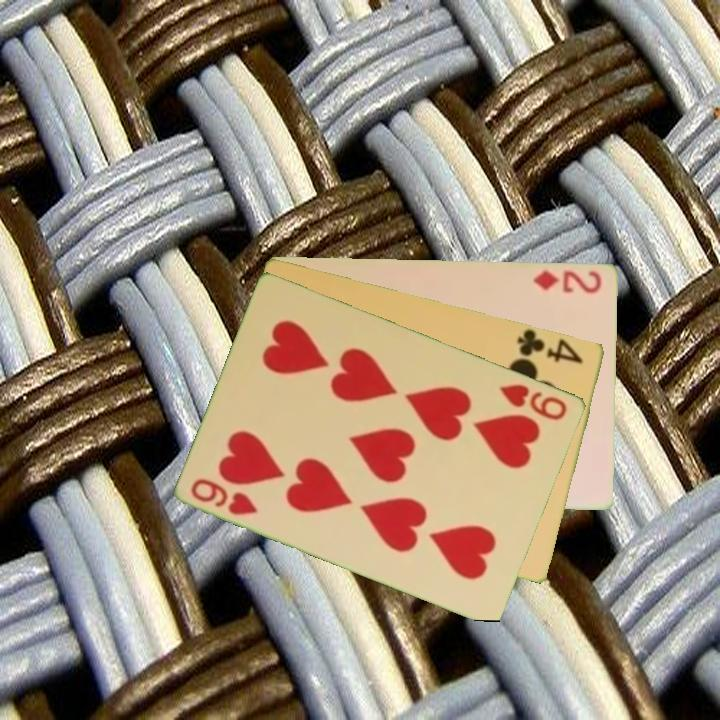2d: (530, 266, 605, 296)
4c: (513, 326, 587, 366)
9h: (496, 380, 571, 423), (188, 474, 261, 518)
